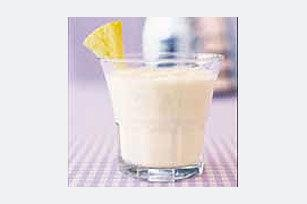background: (39, 6, 105, 54)
